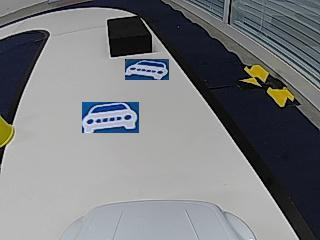block: (107, 16, 152, 56)
cone: (0, 114, 15, 146)
